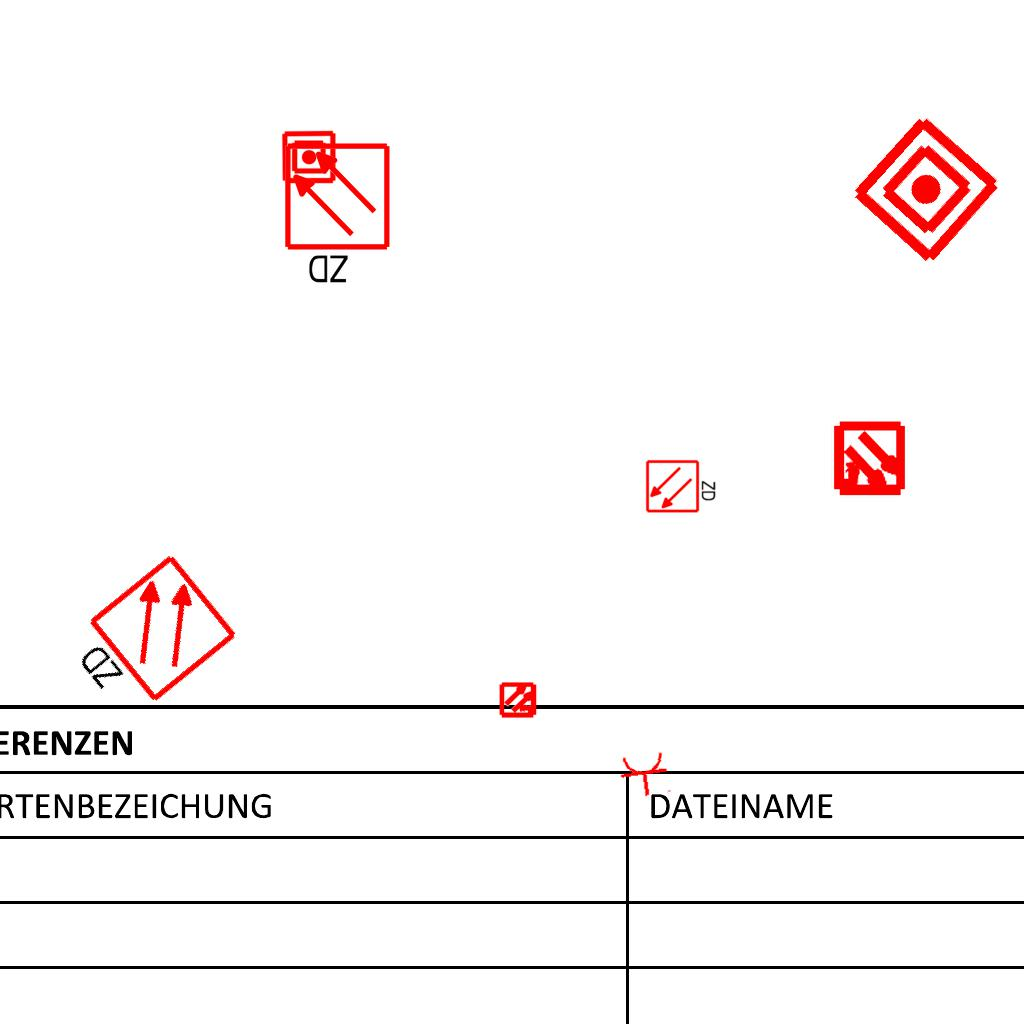NAM-Nichtautomatischer_Melder: (846, 109, 1007, 270), (281, 129, 337, 185)
OT_Multisensormelder_(Kombination_RMO_WMD): (813, 404, 926, 517), (491, 672, 547, 728)
Schukosteckdose_einfach: (617, 750, 674, 800)
ZD_Melder_in_Zwischendecke_mit_Revisionsoeffnung_mind_40_x_40_cm: (55, 550, 243, 733), (282, 141, 396, 290), (645, 457, 719, 514)
